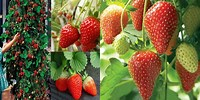Fresa: (144, 1, 179, 54), (128, 48, 163, 100), (175, 58, 200, 94), (130, 1, 153, 33), (79, 13, 100, 46), (58, 22, 81, 50), (66, 71, 82, 99), (54, 71, 71, 93)
